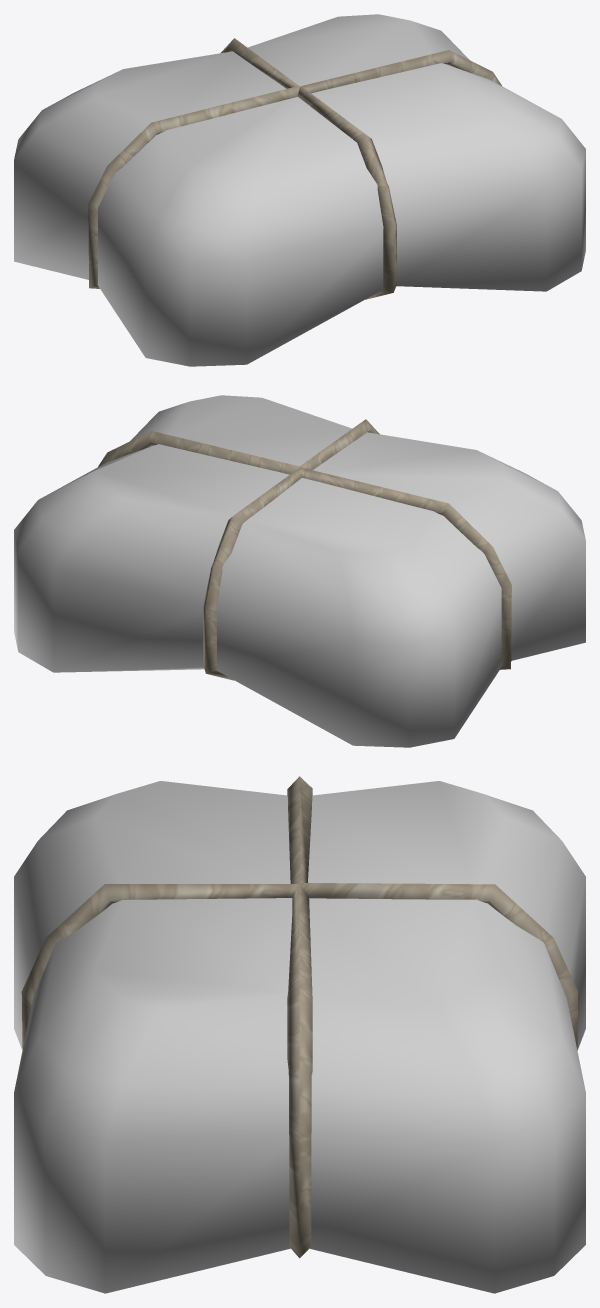
The picture shows the model from 3 angles, top to bottom: view 1: azimuth 30°, elevation 25°; view 2: azimuth 150°, elevation 25°; view 3: azimuth 270°, elevation 25°; orthographic projection. The views are drawn at different scales.
Visible parts, largest first — view 1: Box_03; view 2: Box_03; view 3: Box_03.
Boxes of the visible parts, x1,y1,x2,y2 form: Box_03: [14, 14, 585, 366]; Box_03: [14, 395, 585, 747]; Box_03: [14, 776, 585, 1293].
Size of the model in its own units: 238 by 89.55 by 181.
